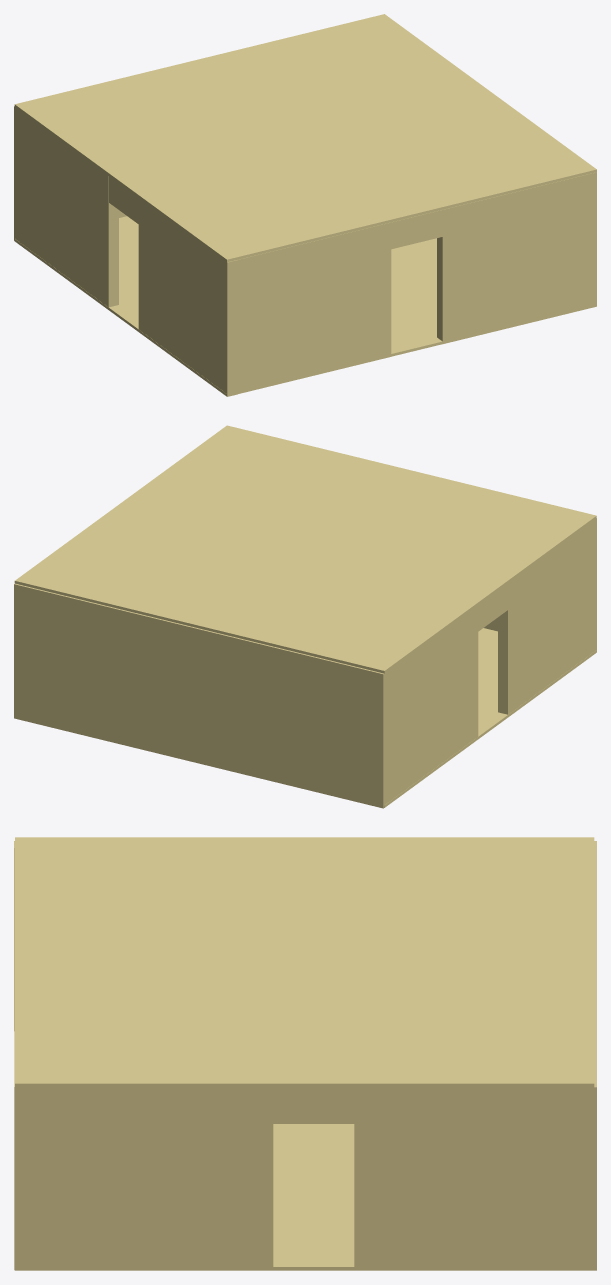
File: livingroom.dae
The picture shows the model from 3 angles, top to bottom: view 1: azimuth 30°, elevation 25°; view 2: azimuth 150°, elevation 25°; view 3: azimuth 270°, elevation 25°; orthographic projection. The views are drawn at different scales.
Visible parts, largest first — view 1: Box012, Box007, Box005, Box010, Box008, Box011, Box006, Box004, Box009; view 2: Box012, Box004, Box010, Box008, Box011, Box002, Box009; view 3: Box012, Box001, Box002, Box011, Box007, Box003, Box004.
Boxes of the visible parts, box(x1,y1,x2,y2) form: Box012: box(14, 14, 596, 262); Box007: box(437, 172, 596, 343); Box005: box(237, 222, 391, 393); Box010: box(138, 198, 237, 396); Box008: box(19, 111, 118, 307); Box011: box(14, 216, 442, 396); Box006: box(391, 210, 442, 249); Box004: box(14, 106, 126, 241); Box009: box(109, 176, 138, 223); Box012: box(14, 425, 596, 673); Box004: box(24, 586, 389, 808); Box010: box(498, 518, 596, 714); Box008: box(389, 605, 478, 801); Box011: box(384, 628, 596, 807); Box002: box(14, 583, 24, 720); Box009: box(478, 583, 507, 631); Box012: box(15, 837, 594, 1087); Box001: box(30, 1087, 273, 1266); Box002: box(354, 1080, 596, 1270); Box011: box(15, 1124, 594, 1270); Box007: box(14, 984, 30, 1270); Box003: box(273, 1087, 354, 1123); Box004: box(594, 841, 596, 1080).
Bounding box in the file's own units: 284 × 284 × 100.
